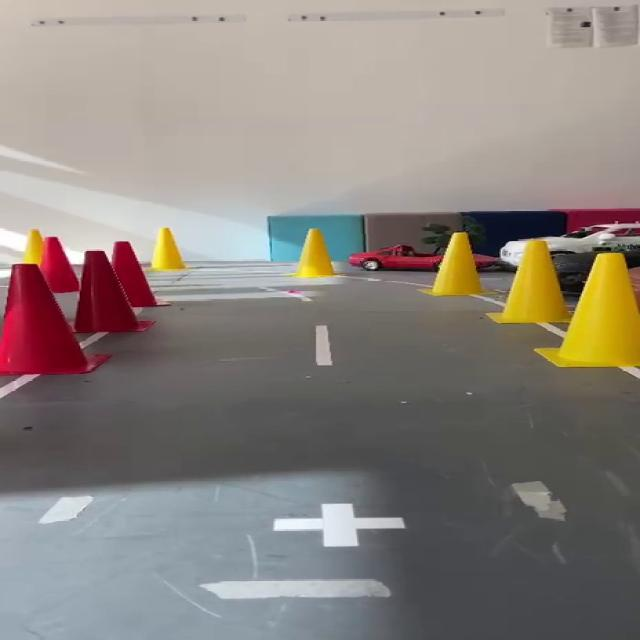Cone-red: (0, 263, 108, 375), (76, 250, 150, 333), (112, 242, 157, 308), (40, 237, 77, 293)
Cones-yellow: (488, 239, 639, 367), (535, 252, 639, 367), (426, 232, 484, 295), (294, 229, 332, 276), (150, 228, 185, 269), (22, 230, 41, 265)
